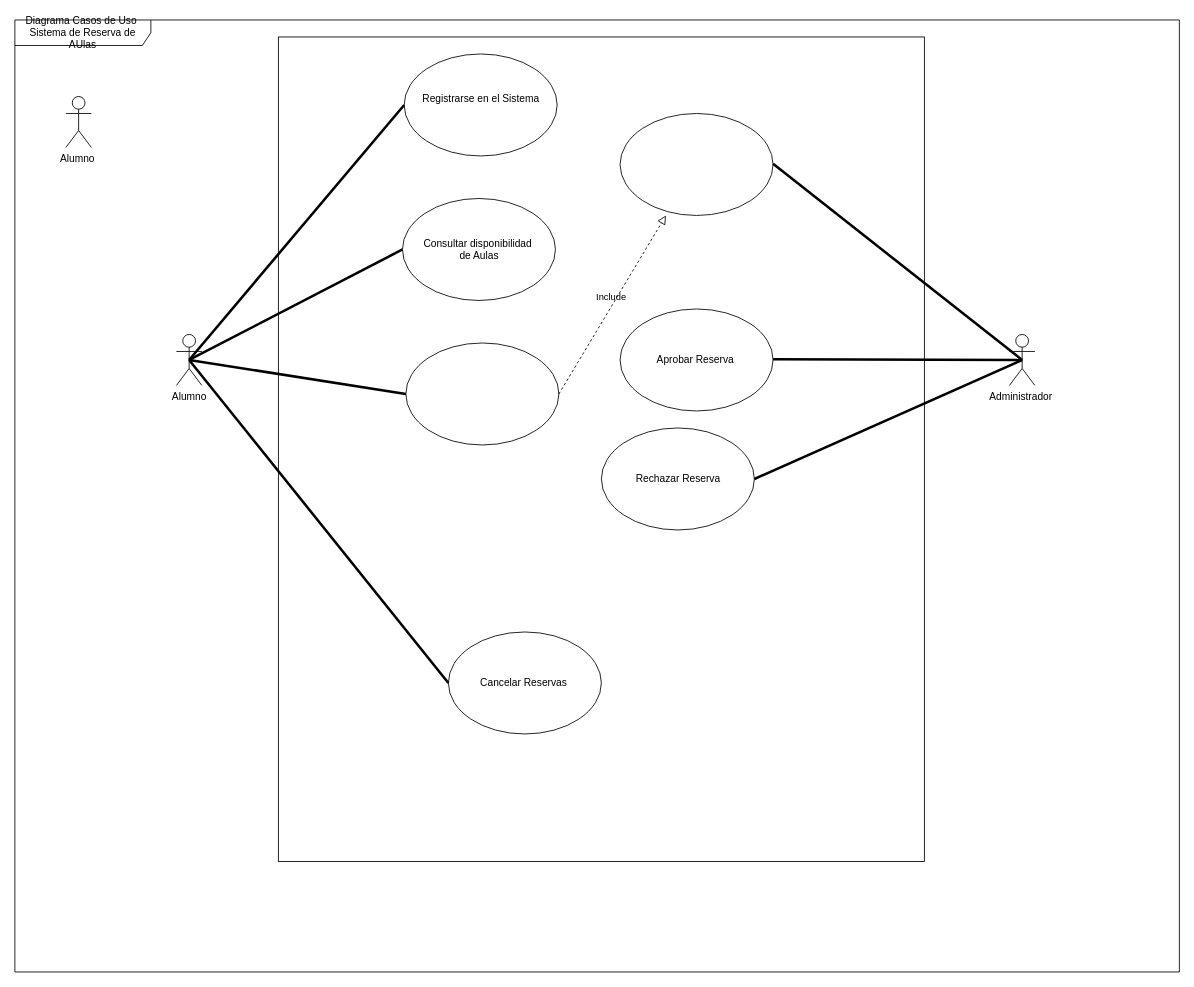
Image size: 1194x987. Some labels were removed from this diagram. The shapes that lost their labels are listed below. From the top down, each one's centre as x and y in pixels, then its label:
At (x=696, y=164): "Consultar reservas activas".
At (x=482, y=393): "Reservar Aulas".
